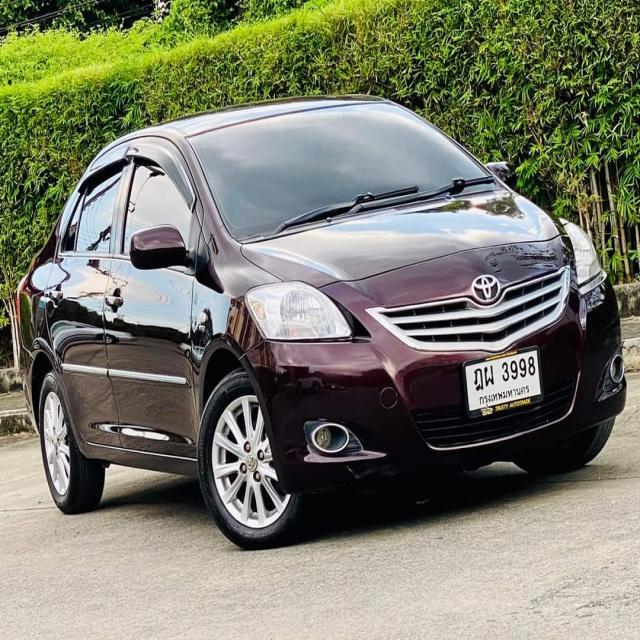license_plate: (452, 341, 546, 425)
